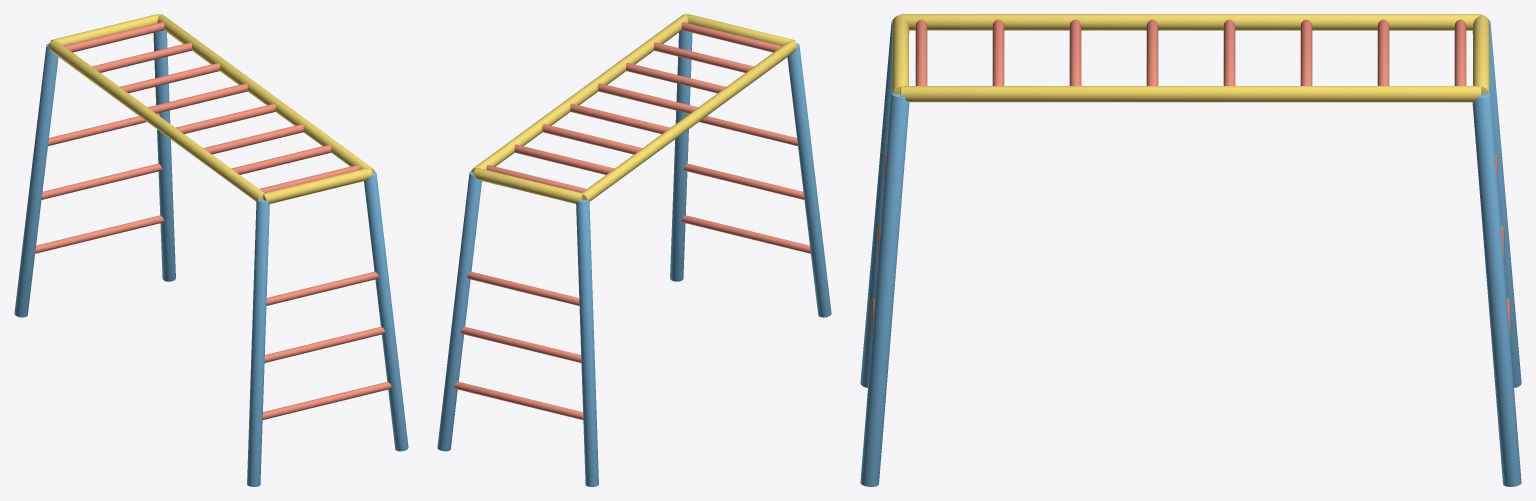
Rendered from playground_monkey_bars.glb.
3 views of the same model, side by side, from view 1: azimuth 30°, elevation 25°; view 2: azimuth 150°, elevation 25°; view 3: azimuth 270°, elevation 25° (orthographic). The views are drawn at different scales.
Parts seen in each view (by area): view 1: monkey_bars_blue, monkey_bars_red, monkey_bars_yellow; view 2: monkey_bars_blue, monkey_bars_red, monkey_bars_yellow; view 3: monkey_bars_yellow, monkey_bars_blue, monkey_bars_red.
Boxes of the visible parts, x1=… form: monkey_bars_blue: x1=14, y1=30, x2=408, y2=486; monkey_bars_red: x1=35, y1=22, x2=391, y2=419; monkey_bars_yellow: x1=48, y1=14, x2=374, y2=203; monkey_bars_blue: x1=437, y1=30, x2=831, y2=486; monkey_bars_red: x1=454, y1=22, x2=810, y2=419; monkey_bars_yellow: x1=471, y1=14, x2=797, y2=203; monkey_bars_yellow: x1=892, y1=14, x2=1489, y2=102; monkey_bars_blue: x1=860, y1=20, x2=1521, y2=486; monkey_bars_red: x1=871, y1=19, x2=1510, y2=339.
Size of the model in its own units: 1.23 by 2.04 by 3.19.
